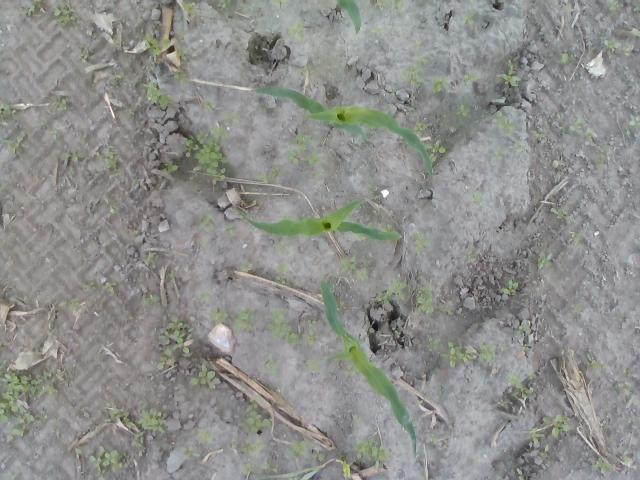Maize: (317, 276, 418, 461), (256, 87, 435, 179), (236, 197, 400, 240), (333, 0, 362, 36)
Weeds: (0, 368, 58, 442), (182, 114, 240, 186), (108, 404, 168, 450), (270, 304, 319, 346), (240, 398, 274, 455), (158, 319, 194, 370), (530, 415, 570, 458), (494, 108, 528, 158), (440, 340, 498, 368), (288, 130, 320, 178), (88, 445, 130, 480), (500, 368, 536, 400), (352, 438, 392, 465), (332, 257, 369, 284), (400, 56, 430, 88), (376, 274, 408, 304), (598, 31, 634, 56), (286, 439, 325, 462), (145, 78, 173, 110), (94, 142, 120, 176), (188, 364, 220, 390), (231, 303, 257, 334), (558, 116, 592, 139), (494, 59, 520, 89), (52, 0, 81, 26), (136, 31, 162, 56), (414, 286, 436, 314), (78, 280, 115, 296), (372, 0, 406, 17), (190, 424, 214, 448), (426, 141, 448, 167), (5, 132, 28, 156), (259, 355, 284, 377), (20, 0, 48, 18), (78, 42, 99, 66), (550, 206, 576, 224), (415, 230, 433, 256), (454, 97, 472, 122), (256, 167, 280, 185), (110, 64, 128, 88), (463, 0, 480, 25), (590, 457, 616, 473), (0, 103, 18, 126), (286, 17, 304, 40), (206, 308, 231, 324), (272, 262, 290, 284), (184, 0, 202, 22), (594, 144, 609, 168), (500, 278, 520, 296), (422, 334, 440, 354), (52, 95, 72, 113), (536, 252, 555, 270), (432, 75, 449, 95), (463, 70, 481, 88), (586, 352, 604, 370), (182, 445, 201, 462), (197, 214, 217, 230), (296, 64, 320, 77), (304, 358, 322, 375), (175, 47, 193, 63), (62, 148, 82, 162), (142, 293, 163, 306), (462, 247, 480, 262), (438, 302, 457, 316), (608, 383, 632, 394), (414, 120, 434, 133), (270, 241, 290, 254), (163, 160, 179, 176), (606, 0, 622, 16), (530, 126, 546, 142), (212, 0, 235, 11), (366, 174, 376, 199), (568, 233, 584, 248), (368, 25, 386, 38), (515, 322, 529, 337), (202, 98, 216, 113), (255, 103, 274, 114), (196, 289, 212, 302), (470, 190, 481, 208), (342, 462, 353, 480), (239, 2, 257, 13), (173, 70, 190, 81), (629, 112, 640, 129), (242, 462, 256, 475), (366, 95, 386, 104), (270, 0, 288, 10), (352, 134, 368, 145), (240, 261, 253, 274), (559, 52, 572, 65), (164, 270, 177, 283), (404, 100, 416, 114), (429, 432, 441, 446), (341, 364, 355, 376), (112, 38, 128, 48), (498, 398, 510, 410), (144, 255, 158, 265), (128, 229, 140, 240), (629, 28, 640, 40), (335, 299, 345, 312), (175, 31, 188, 41), (515, 467, 525, 480), (225, 440, 238, 450), (128, 108, 138, 121), (0, 175, 7, 193), (68, 297, 82, 306), (260, 461, 274, 470), (366, 206, 378, 216), (223, 224, 233, 236), (162, 38, 172, 49), (470, 454, 480, 465), (391, 326, 400, 338), (4, 471, 16, 480), (110, 206, 120, 216), (354, 416, 364, 426), (149, 61, 157, 73), (632, 0, 640, 12), (239, 211, 249, 220), (200, 238, 208, 248), (0, 339, 7, 350), (457, 313, 466, 321), (574, 72, 583, 80), (623, 458, 630, 464), (68, 170, 74, 175)
